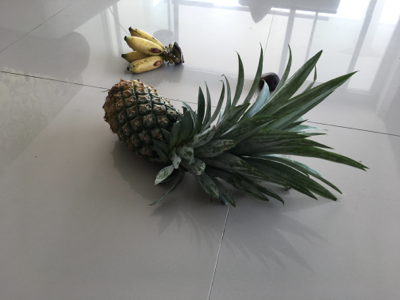banana: (121, 27, 185, 75)
pineapple: (104, 43, 368, 206)
